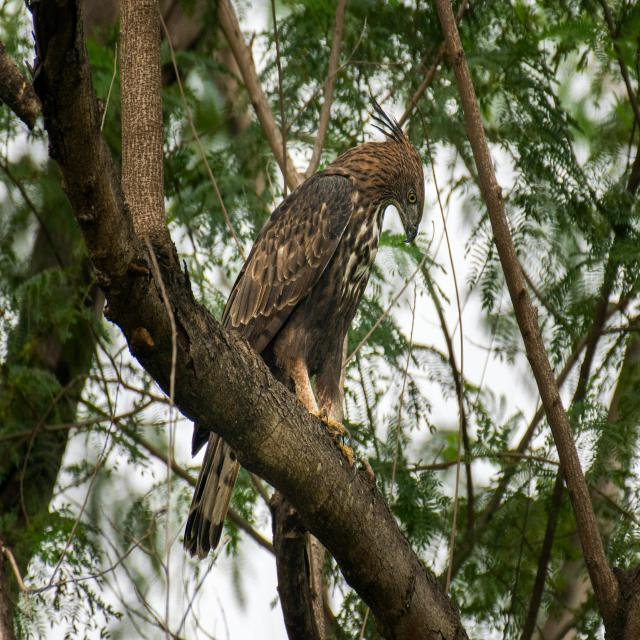Elang Jawa: (166, 78, 432, 592)
